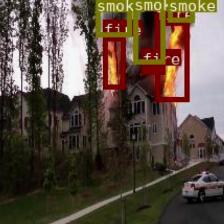fire: (155, 20, 188, 101), (102, 36, 124, 88), (141, 65, 164, 74)
smoke: (133, 0, 164, 64), (95, 0, 130, 36), (167, 0, 193, 21)
